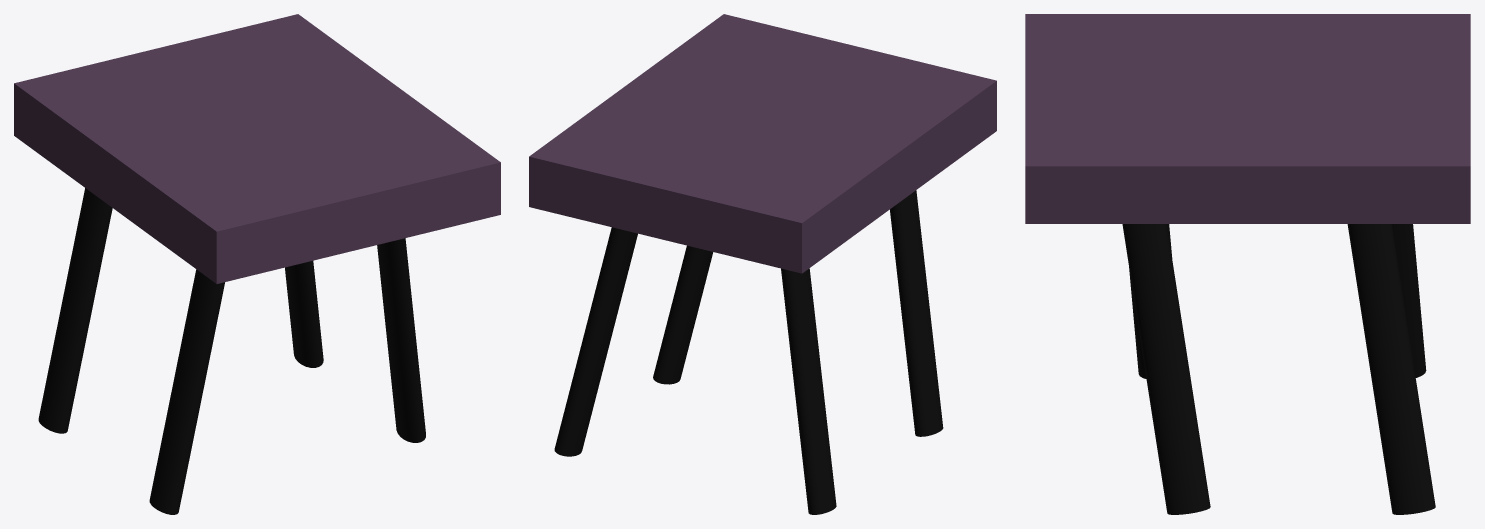
The model's file is desk.fbx.
3 renders of one model, left to right at view 1: azimuth 30°, elevation 25°; view 2: azimuth 150°, elevation 25°; view 3: azimuth 270°, elevation 25°, orthographic. The views are drawn at different scales.
Visible parts, largest first — view 1: pCube9, pasted__pasted__pasted__pasted__pasted__pasted__pCylinder3, pasted__pasted__pasted__pasted__pasted__pasted__pCylinder1, pasted__pasted__pasted__pasted__pasted__pasted__pCylinder2, pasted__pasted__pasted__pasted__pasted__pCylinder1; view 2: pCube9, pasted__pasted__pasted__pasted__pasted__pasted__pCylinder1, pasted__pasted__pasted__pasted__pasted__pasted__pCylinder3, pasted__pasted__pasted__pasted__pasted__pCylinder1, pasted__pasted__pasted__pasted__pasted__pasted__pCylinder2; view 3: pCube9, pasted__pasted__pasted__pasted__pasted__pCylinder1, pasted__pasted__pasted__pasted__pasted__pasted__pCylinder2, pasted__pasted__pasted__pasted__pasted__pasted__pCylinder1, pasted__pasted__pasted__pasted__pasted__pasted__pCylinder3.
Part boxes in pixels (x1,y1,x2,y2): pCube9: [14, 14, 500, 283]; pasted__pasted__pasted__pasted__pasted__pasted__pCylinder3: [149, 269, 224, 514]; pasted__pasted__pasted__pasted__pasted__pasted__pCylinder1: [38, 188, 112, 433]; pasted__pasted__pasted__pasted__pasted__pasted__pCylinder2: [377, 238, 425, 442]; pasted__pasted__pasted__pasted__pasted__pCylinder1: [285, 261, 323, 367]; pCube9: [529, 14, 996, 273]; pasted__pasted__pasted__pasted__pasted__pasted__pCylinder1: [781, 268, 836, 514]; pasted__pasted__pasted__pasted__pasted__pasted__pCylinder3: [890, 190, 943, 436]; pasted__pasted__pasted__pasted__pasted__pCylinder1: [554, 227, 637, 456]; pasted__pasted__pasted__pasted__pasted__pasted__pCylinder2: [653, 245, 713, 384]; pCube9: [1025, 14, 1470, 223]; pasted__pasted__pasted__pasted__pasted__pCylinder1: [1347, 224, 1435, 514]; pasted__pasted__pasted__pasted__pasted__pasted__pCylinder2: [1122, 224, 1210, 514]; pasted__pasted__pasted__pasted__pasted__pasted__pCylinder1: [1392, 224, 1426, 377]; pasted__pasted__pasted__pasted__pasted__pasted__pCylinder3: [1129, 224, 1172, 378].
Size of the model in its own units: 1.99 by 2.15 by 2.44.
